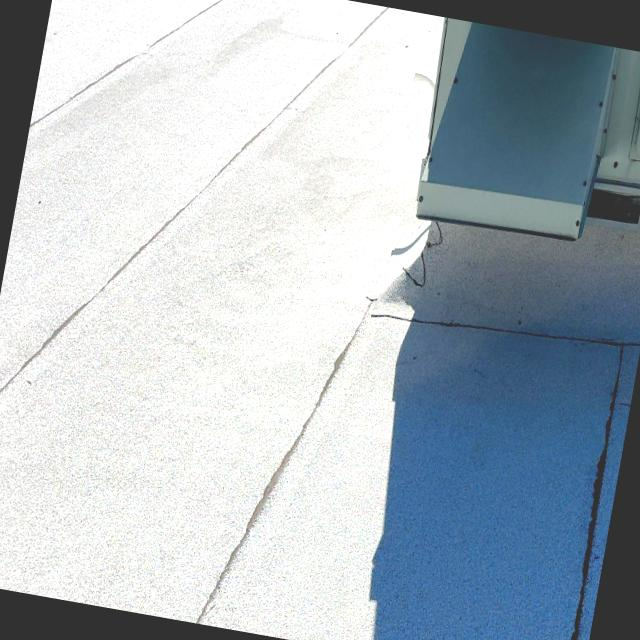RTU: (380, 14, 640, 326)
